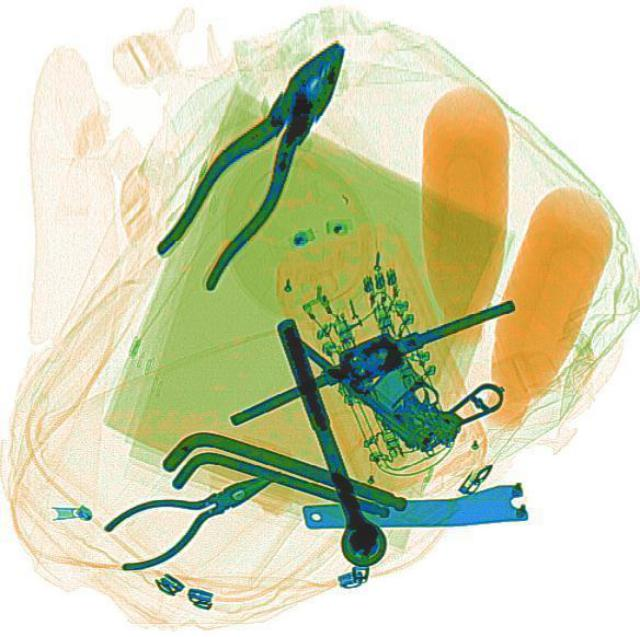Gun: (290, 270, 510, 465)
Pliers: (142, 18, 380, 291), (96, 448, 288, 574)
